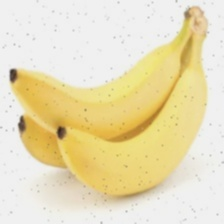banana: (48, 43, 219, 197)
